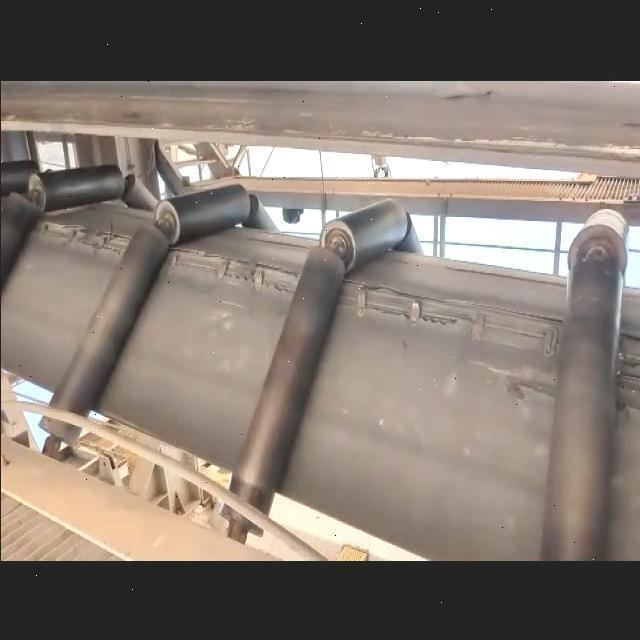Tear: (344, 272, 566, 368), (155, 234, 314, 301), (34, 210, 132, 258)
